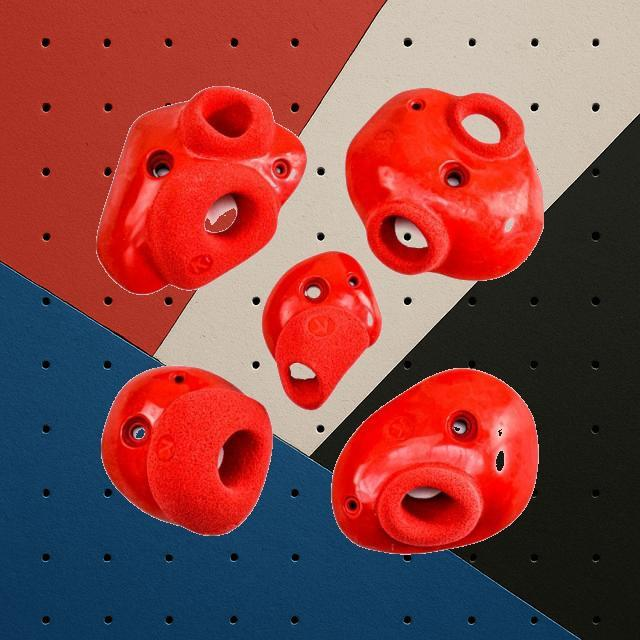Pocket: (95, 84, 307, 294), (331, 366, 539, 554), (344, 86, 544, 280), (100, 364, 272, 536), (262, 250, 382, 410)
